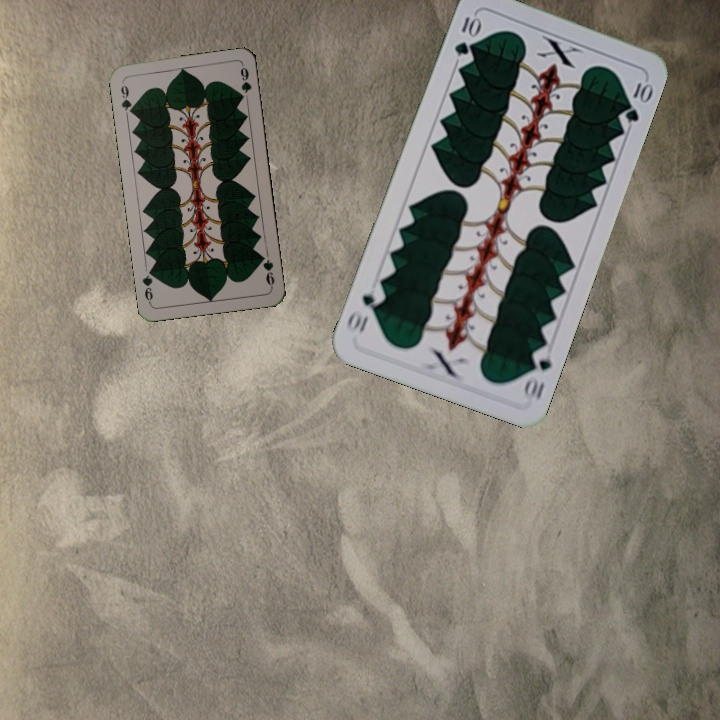G10: (520, 343, 554, 403), (450, 11, 482, 58)
G9: (256, 250, 277, 290), (117, 81, 136, 117)
